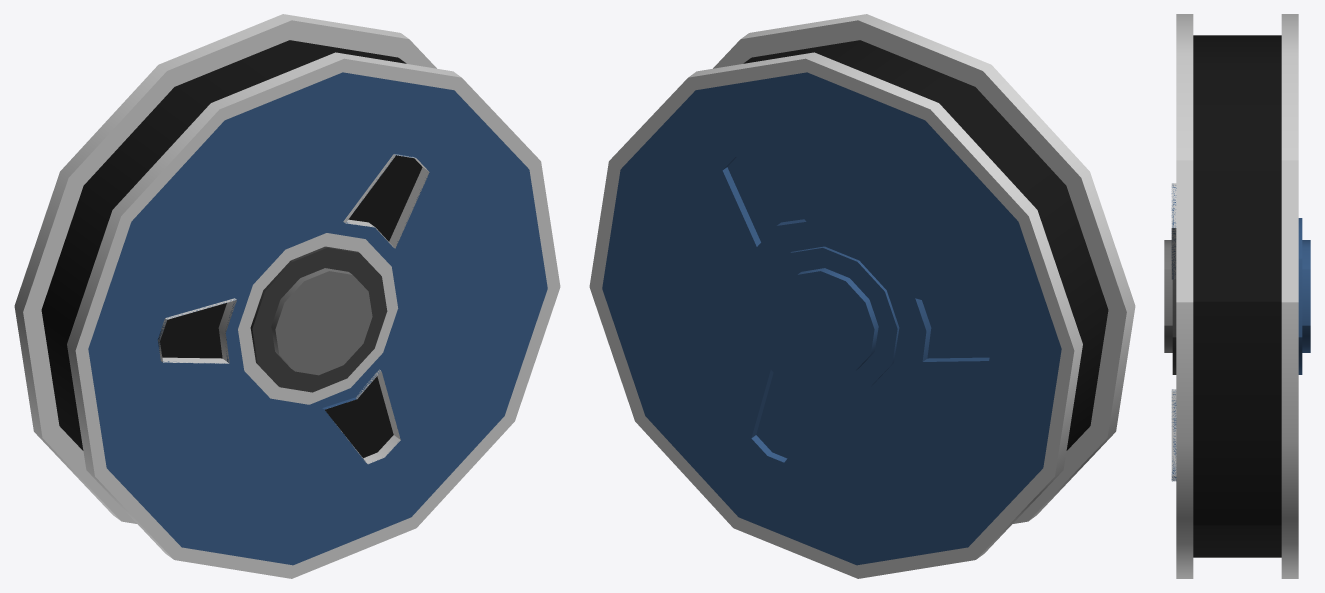
Rendered from film-reel--2.gltf.
3 renders of one model, left to right at view 1: azimuth 30°, elevation 25°; view 2: azimuth 150°, elevation 25°; view 3: azimuth 270°, elevation 25°, orthographic.
Parts seen in each view (by area): view 1: Cylinder.001; view 2: Cylinder.001; view 3: Cylinder.001.
Part boxes in pixels (x1=…): Cylinder.001: x1=14, y1=14, x2=560, y2=578; Cylinder.001: x1=589, y1=14, x2=1135, y2=578; Cylinder.001: x1=1164, y1=14, x2=1310, y2=578.
Size of the model in its own units: 0.2327 by 0.2327 by 0.0607.
